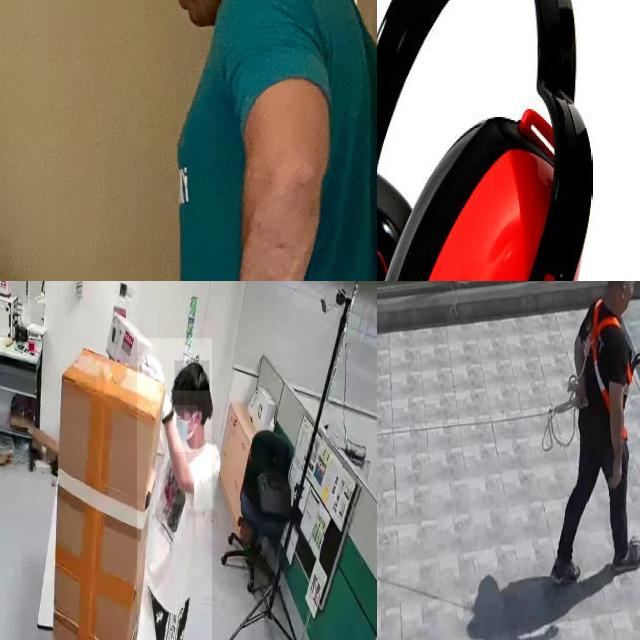Ear-protection: (377, 0, 600, 281)
Harness: (588, 299, 622, 412)
face_mask: (173, 405, 197, 452)
head_nohelmet: (174, 361, 210, 392)
person: (137, 338, 212, 640)
